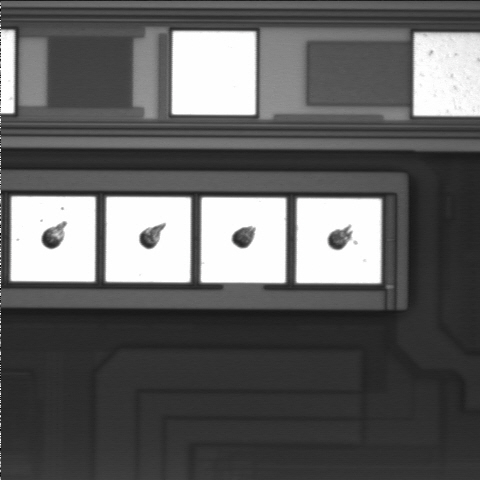pad: (201, 197, 286, 283), (106, 197, 191, 282), (296, 198, 381, 283), (11, 196, 95, 282), (172, 31, 256, 115)
